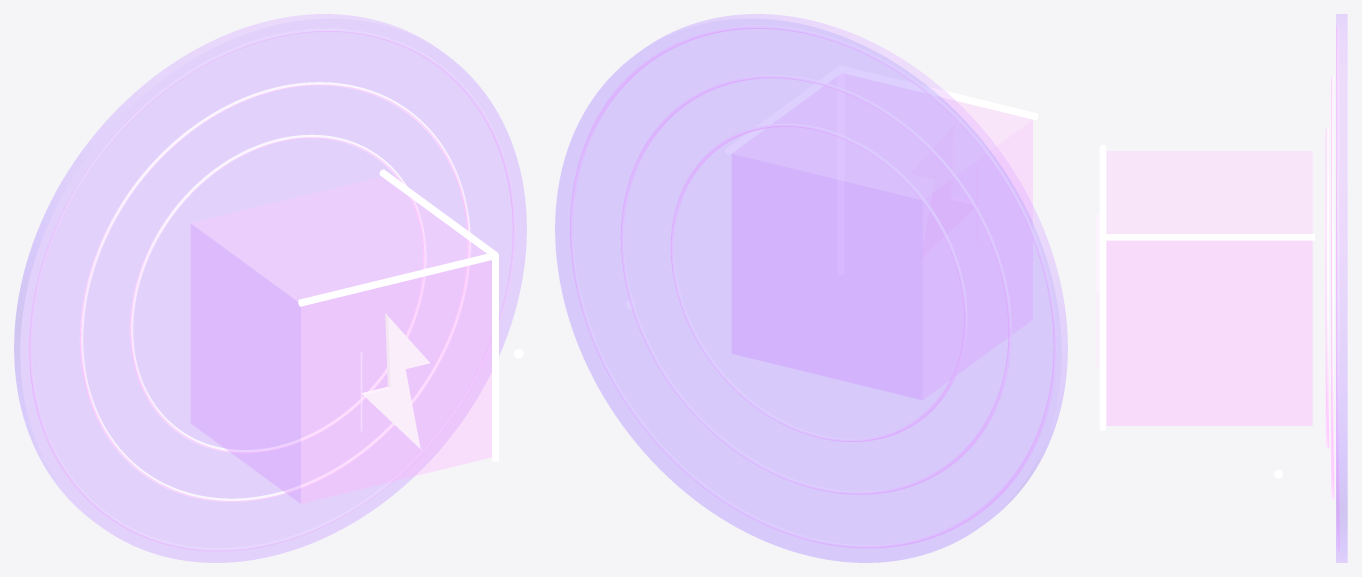
Rendered from tracknode_interactive_cube.glb.
3 views of the same model, side by side, from view 1: azimuth 30°, elevation 25°; view 2: azimuth 150°, elevation 25°; view 3: azimuth 270°, elevation 25° (orthographic). The views are drawn at different scales.
Parts seen in each view (by area): view 1: Neon_Platform, TrackNode_Glass_Cube, Orbit_Ring_3, Orbit_Ring_2, Orbit_Ring_1, TrackNode_Lightning_Logo, Neon_Edge_x, Neon_Edge_y, Neon_Edge_z; view 2: Neon_Platform, TrackNode_Glass_Cube, Orbit_Ring_3, Orbit_Ring_2, Orbit_Ring_1, TrackNode_Lightning_Logo, Neon_Edge_y, Neon_Edge_x, Neon_Edge_z; view 3: TrackNode_Glass_Cube, Neon_Platform, Orbit_Ring_3, Orbit_Ring_2, Orbit_Ring_1, Neon_Edge_y, Neon_Edge_z, Neon_Edge_x, TrackNode_Lightning_Logo.
Part boxes in pixels (<box>): Neon_Platform: <box>14,14,526,562</box>; TrackNode_Glass_Cube: <box>191,177,491,503</box>; Orbit_Ring_3: <box>29,28,515,551</box>; Orbit_Ring_2: <box>79,82,470,501</box>; Orbit_Ring_1: <box>129,134,426,453</box>; TrackNode_Lightning_Logo: <box>361,313,429,450</box>; Neon_Edge_x: <box>298,252,497,306</box>; Neon_Edge_y: <box>492,255,498,461</box>; Neon_Edge_z: <box>379,169,498,254</box>; Neon_Platform: <box>555,14,1067,562</box>; TrackNode_Glass_Cube: <box>732,73,1032,399</box>; Orbit_Ring_3: <box>570,25,1056,548</box>; Orbit_Ring_2: <box>620,75,1011,494</box>; Orbit_Ring_1: <box>670,123,967,442</box>; TrackNode_Lightning_Logo: <box>911,124,978,259</box>; Neon_Edge_y: <box>837,73,844,274</box>; Neon_Edge_x: <box>841,65,1038,120</box>; Neon_Edge_z: <box>725,66,842,154</box>; TrackNode_Glass_Cube: <box>1106,151,1312,425</box>; Neon_Platform: <box>1336,14,1347,562</box>; Orbit_Ring_3: <box>1336,25,1339,551</box>; Orbit_Ring_2: <box>1331,77,1334,499</box>; Orbit_Ring_1: <box>1325,128,1329,448</box>; Neon_Edge_y: <box>1099,237,1106,430</box>; Neon_Edge_z: <box>1103,234,1314,240</box>; Neon_Edge_x: <box>1099,144,1106,237</box>; TrackNode_Lightning_Logo: <box>1096,214,1099,366</box>.
Size of the model in its own units: 5.7 by 5.7 by 2.61.
